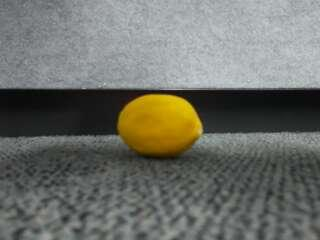lemon: (119, 95, 203, 159)
